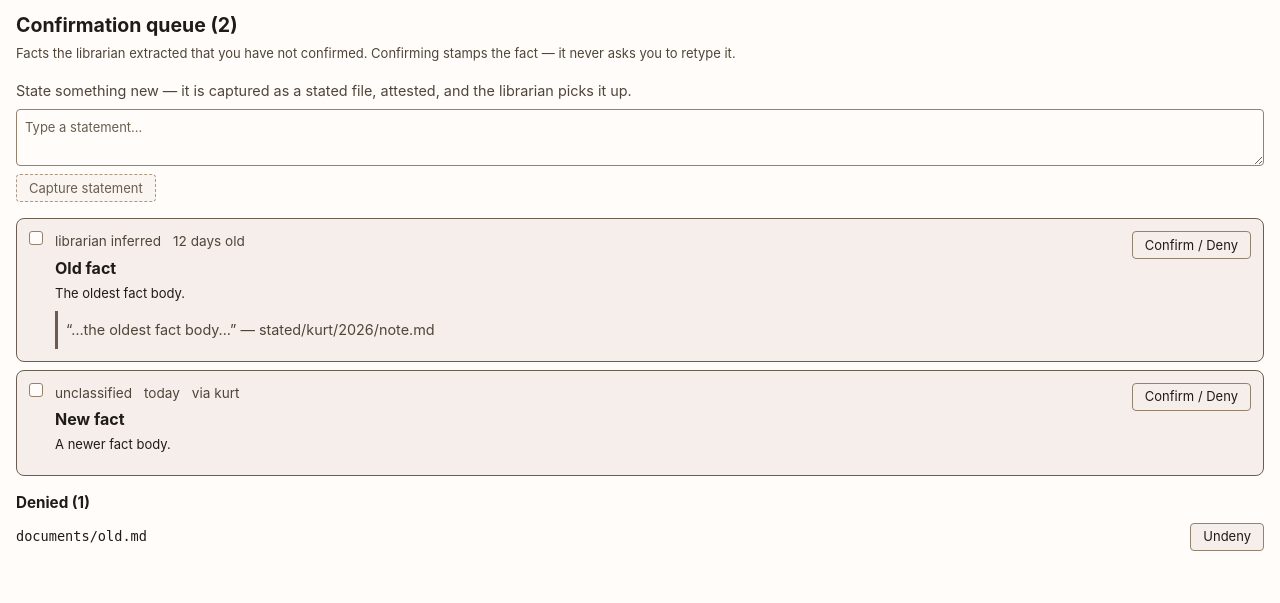
capture box routes a fresh statement through queue_capture_cmd
The width and height of the screenshot is (1280, 603).
Expected: the text "The oldest fact body." is shown, x1=55 y1=285 x2=185 y2=301
Step 1. Type "Alpha ships on Fridays." into the text box labelled "State something new" → (640,138), box x1=16 y1=109 x2=1264 y2=166
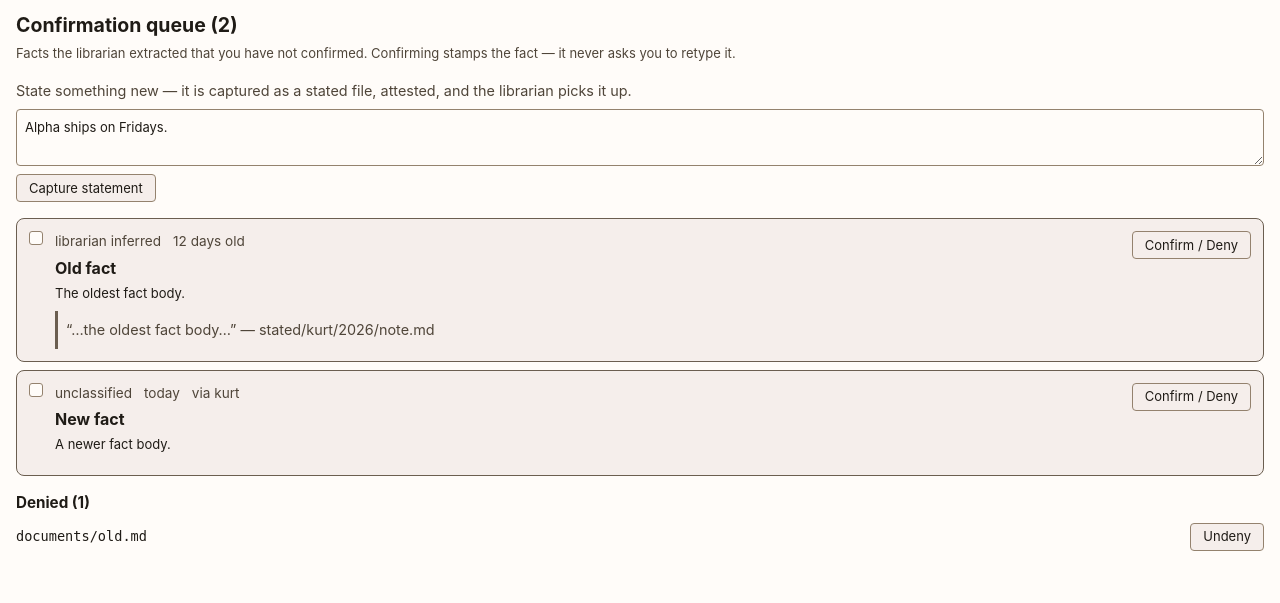
Step 2. Click the button "Capture statement" → (86,188), box x1=16 y1=174 x2=156 y2=202
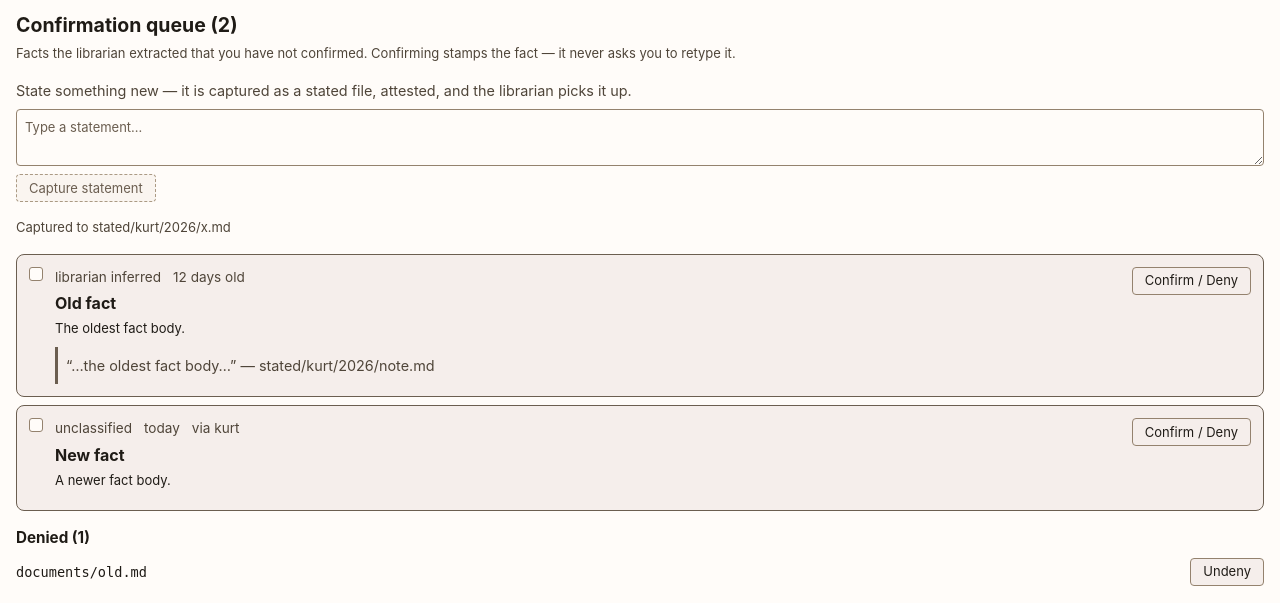
Result: the message shows "Captured to" at x1=16 y1=219 x2=231 y2=235
